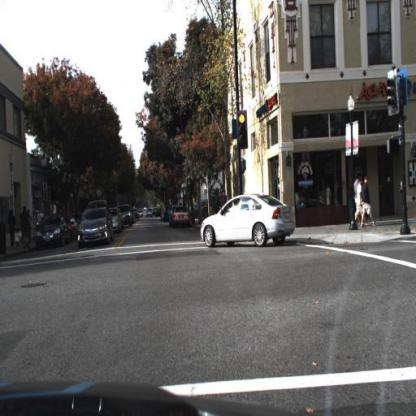car: (200, 192, 299, 248), (78, 208, 113, 247), (38, 215, 70, 249), (171, 203, 191, 228), (112, 207, 125, 235), (124, 203, 137, 231)
pedestrian: (406, 168, 416, 234), (20, 204, 31, 255), (22, 204, 33, 251), (355, 178, 364, 229), (356, 175, 364, 230), (364, 176, 372, 227), (9, 207, 16, 249), (37, 208, 44, 238), (15, 227, 23, 250)
trafficLight: (237, 111, 249, 152)
